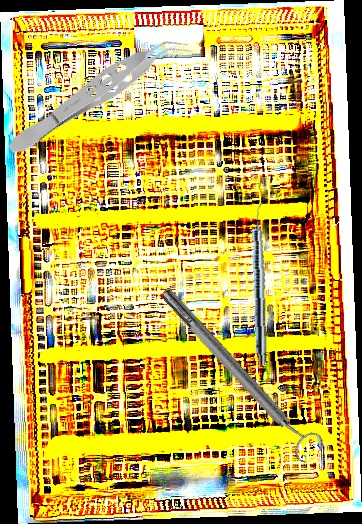Fixation Ring: (152, 278, 329, 468)
Handpiece: (250, 201, 271, 366)
Tissue Forceps: (1, 23, 193, 165)
